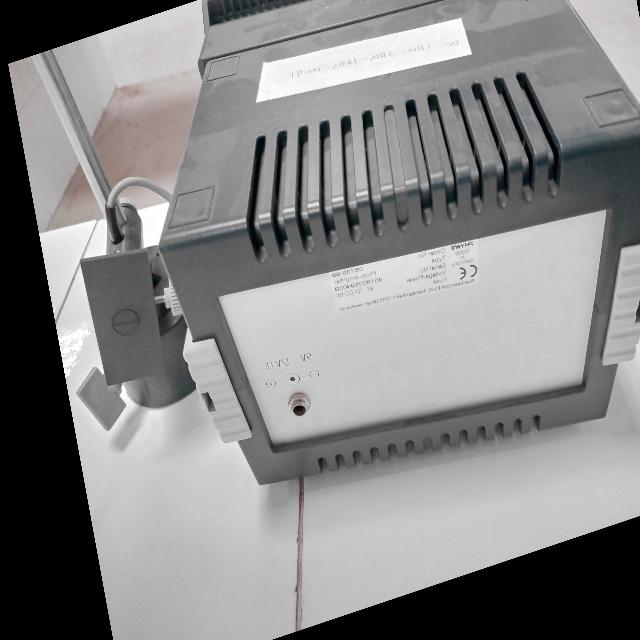Photo Amplifier Power Supply: (54, 0, 640, 589)
